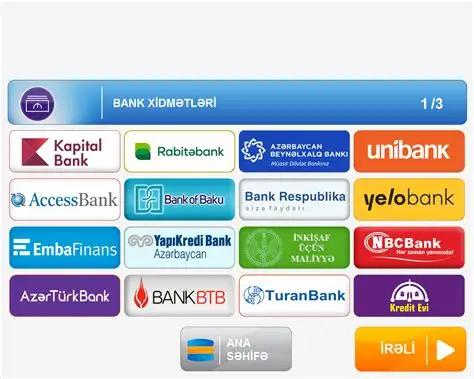Kapital Bank: (21, 136, 50, 166)
